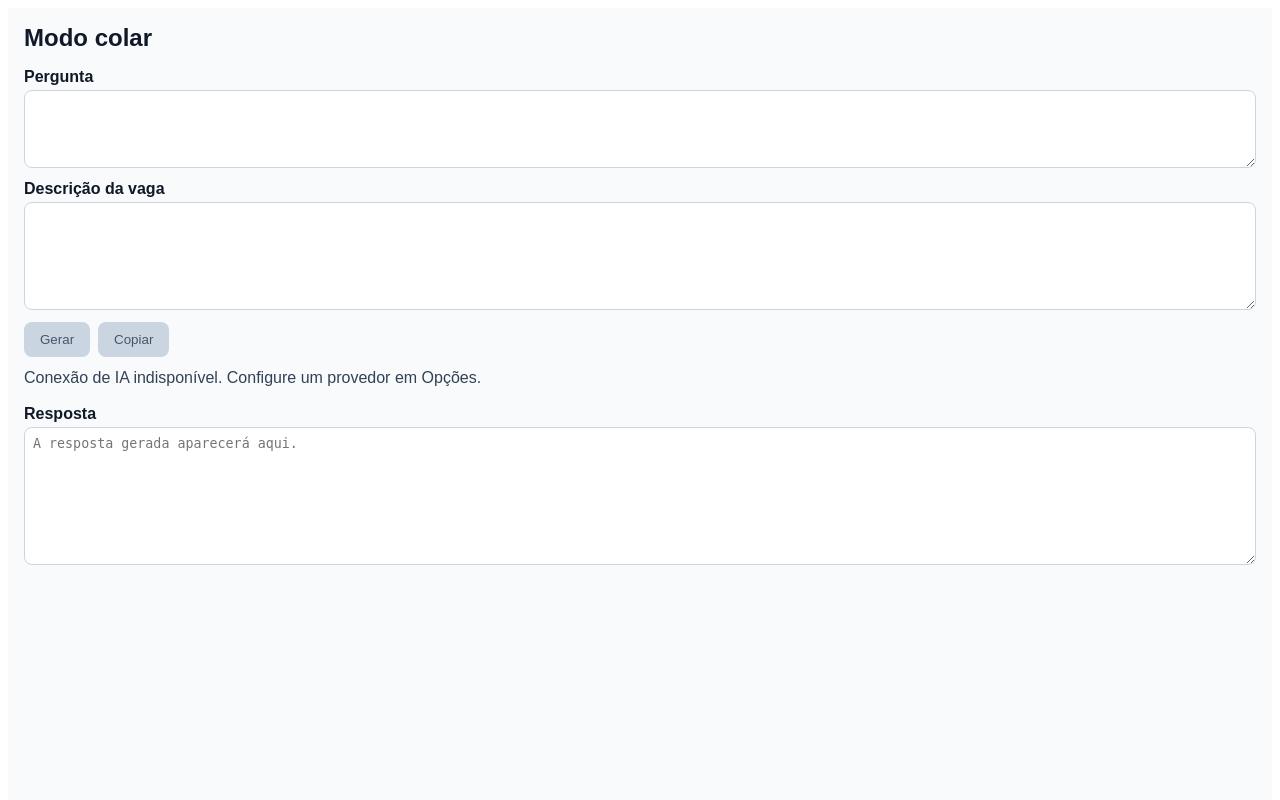
Test case: side panel paste mode › copies the generated answer to the clipboard
Step 1. Type "Resposta de teste" into the text box labelled "Resposta" → (640, 496), box [24,427,1256,565]
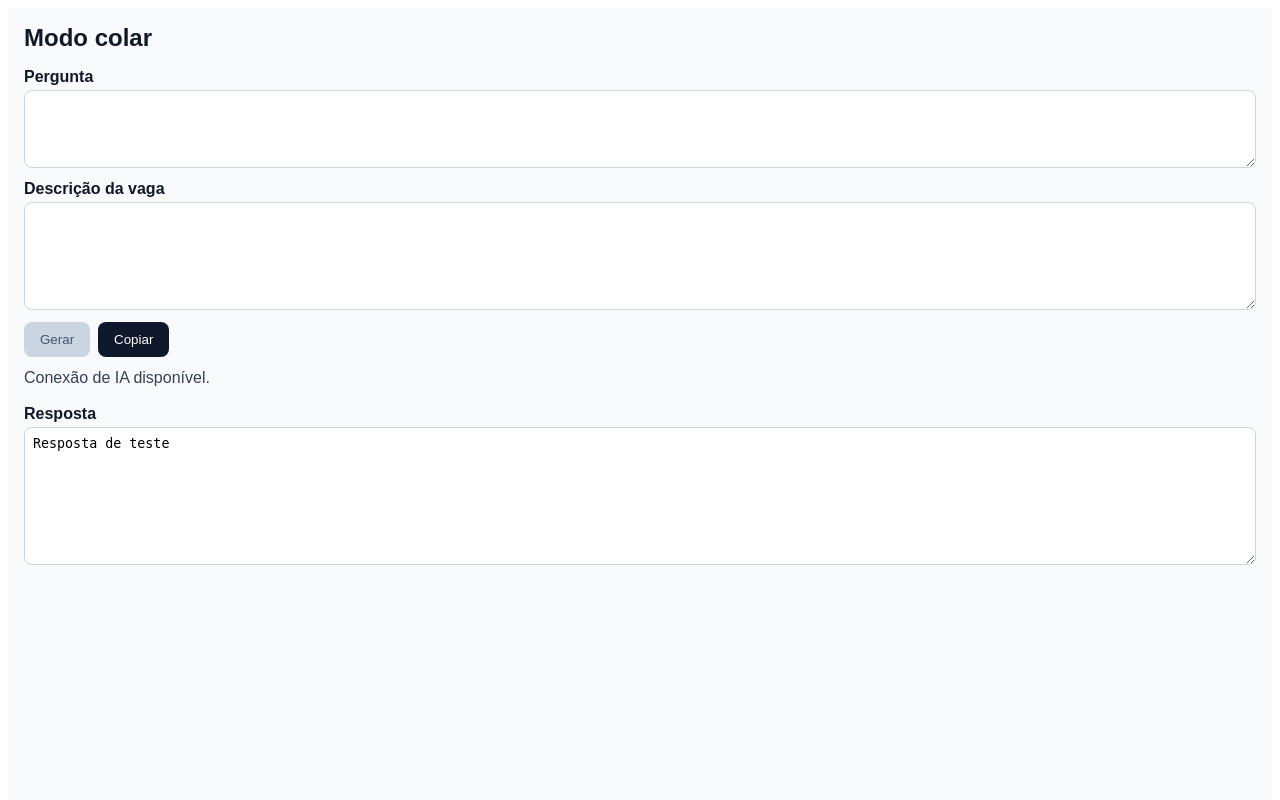
Step 2. Click the button "Copiar" → (134, 340), box [98,322,169,357]
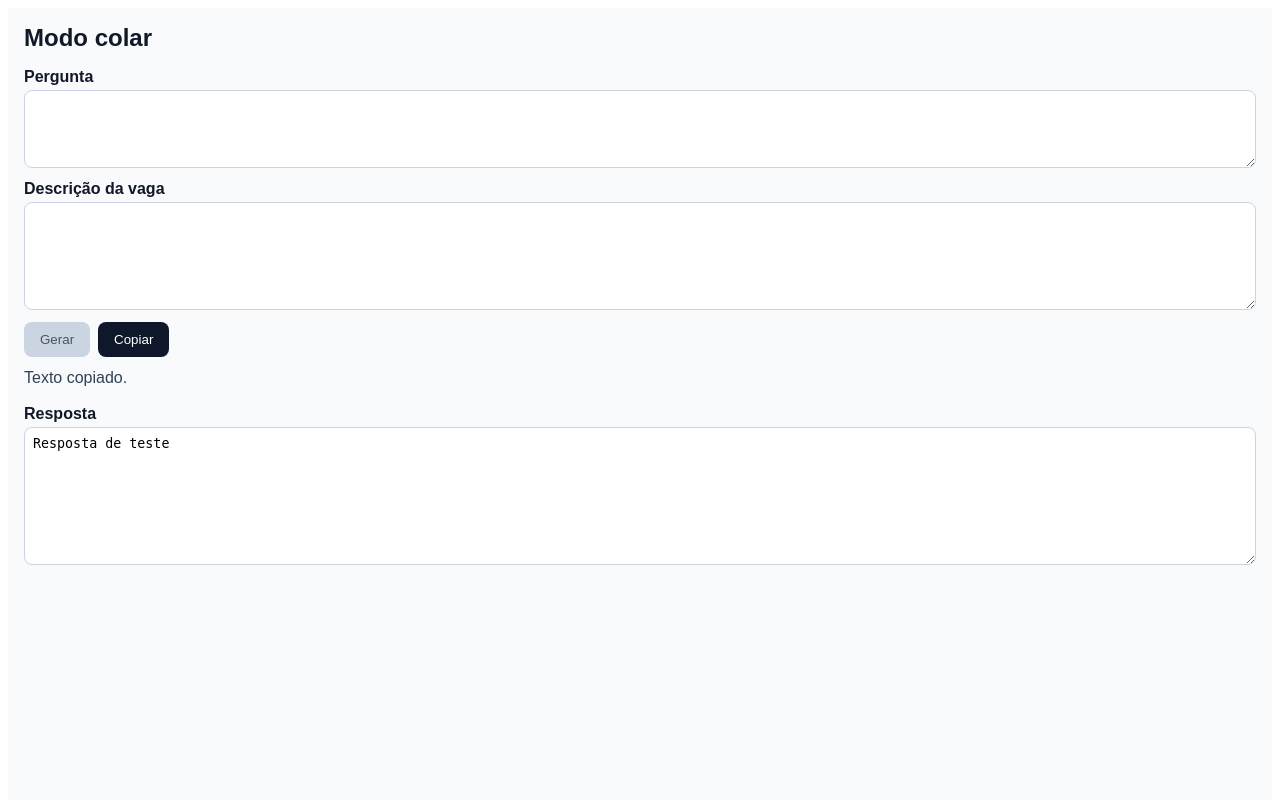
Check: the text "Texto copiado." is shown, box [24,369,127,386]
